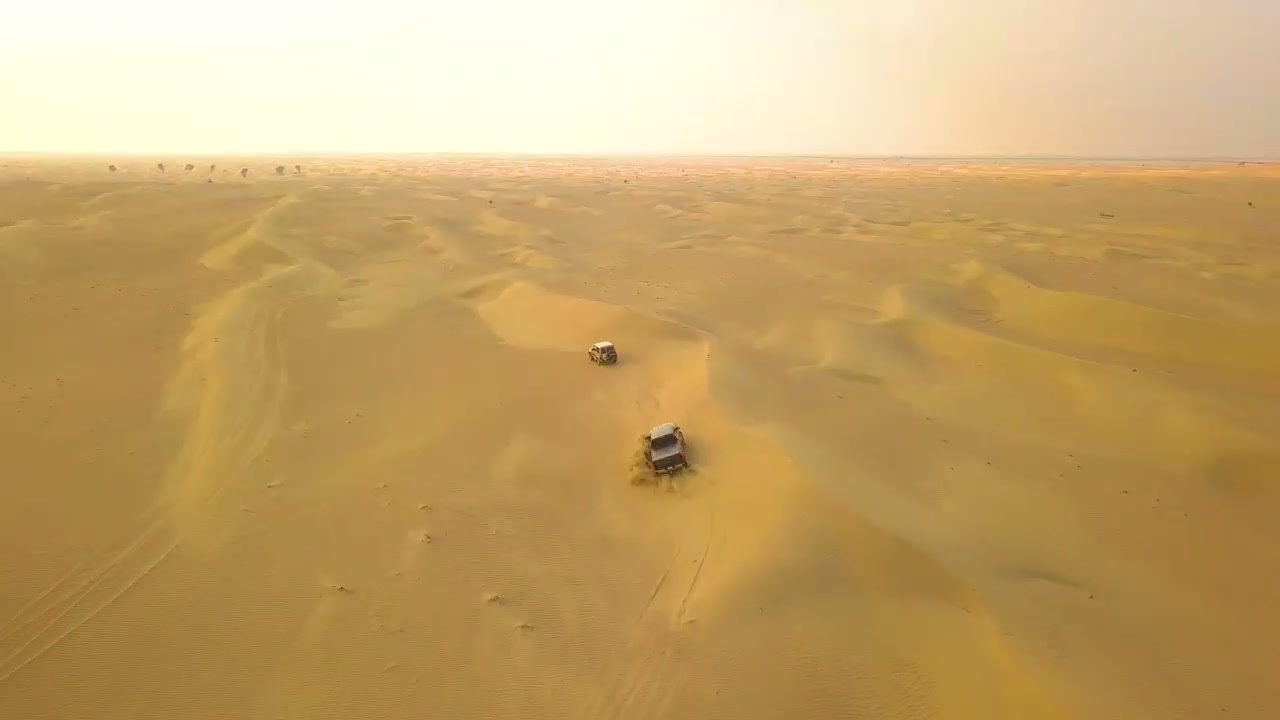vehicle_track: (0, 304, 306, 678), (591, 480, 722, 715)
